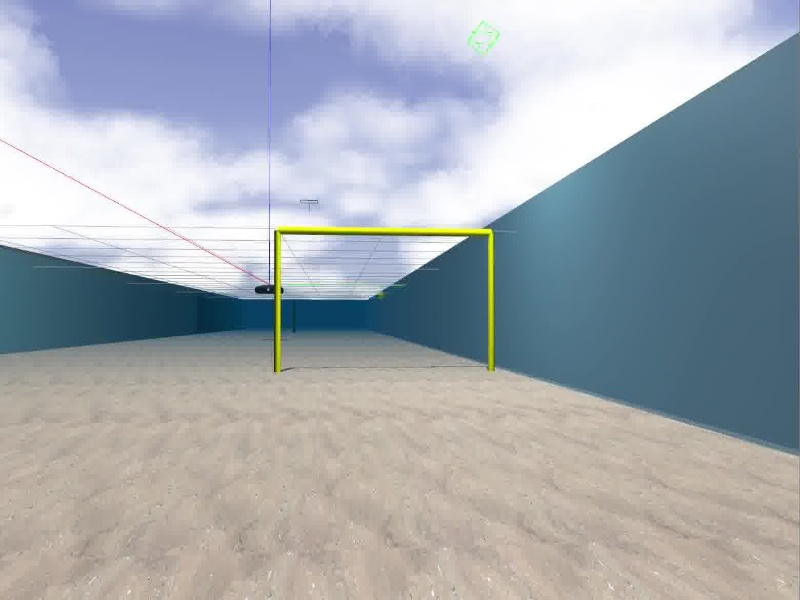gate: (273, 227, 494, 373)
